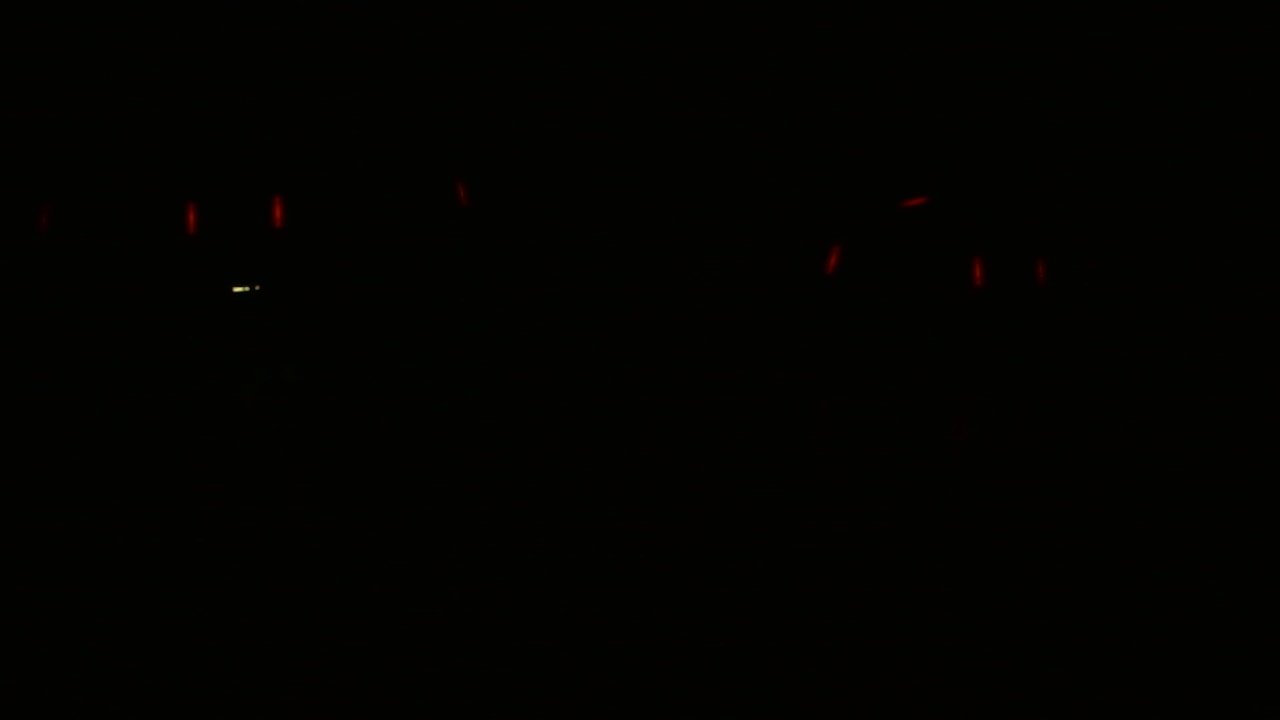pair1: (184, 195, 288, 235), (968, 250, 1050, 288)
